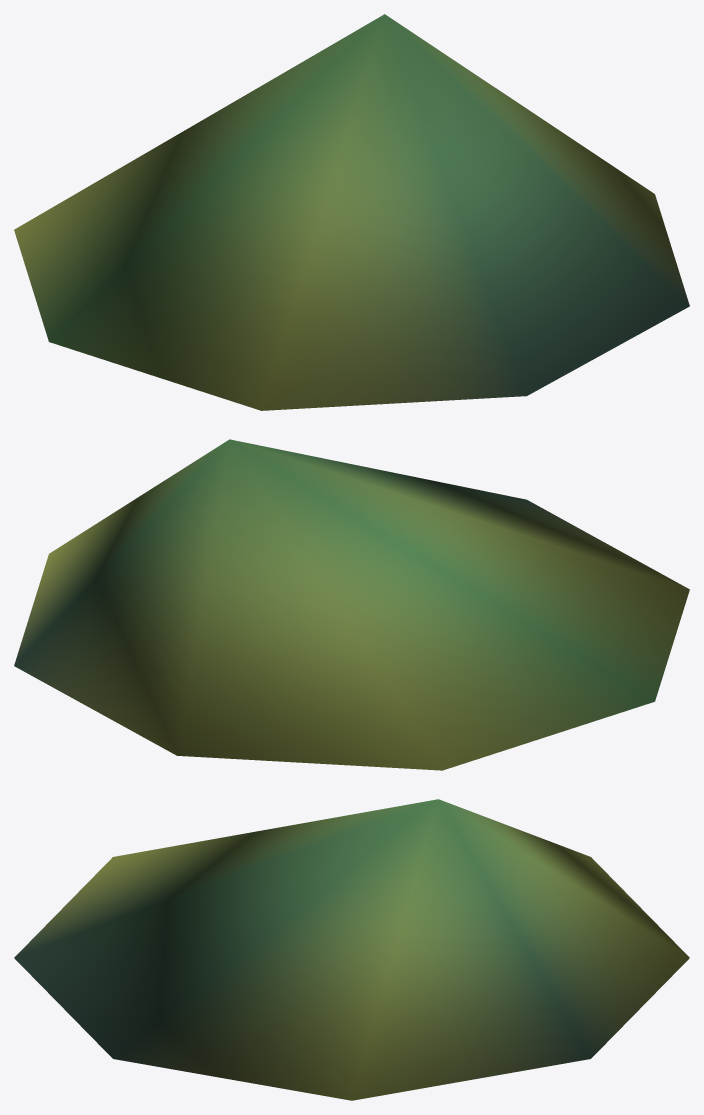
Rendered from girth_slime.glb.
3 views of the same model, one above another, from view 1: azimuth 30°, elevation 25°; view 2: azimuth 150°, elevation 25°; view 3: azimuth 270°, elevation 25° (orthographic). The views are drawn at different scales.
Visible parts, largest first — view 1: Cone; view 2: Cone; view 3: Cone.
Boxes of the visible parts, x1,y1,x2,y2 form: Cone: (14,14,689,410); Cone: (14,439,689,770); Cone: (14,799,689,1100).
Size of the model in its own units: 2 by 0.6378 by 2.
